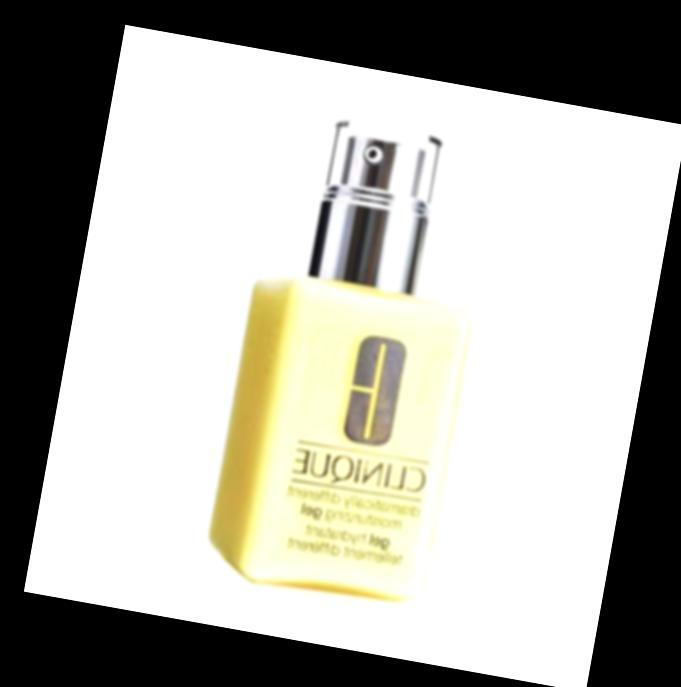cosmetic: (201, 102, 506, 608)
